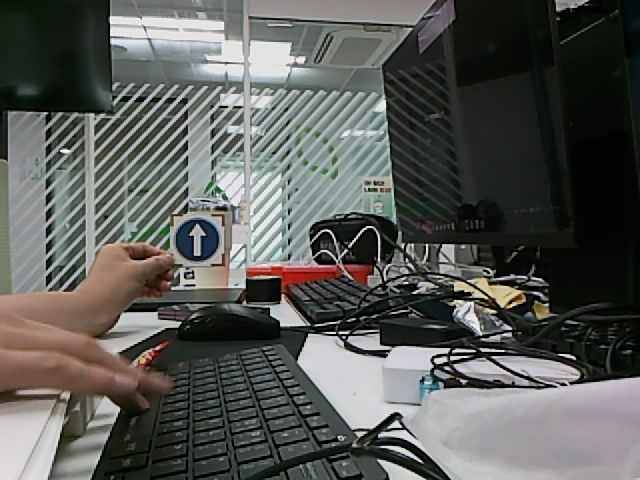go: (175, 218, 221, 263)
